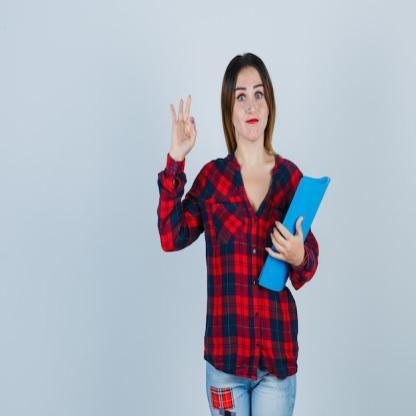ok: (168, 91, 200, 165)
